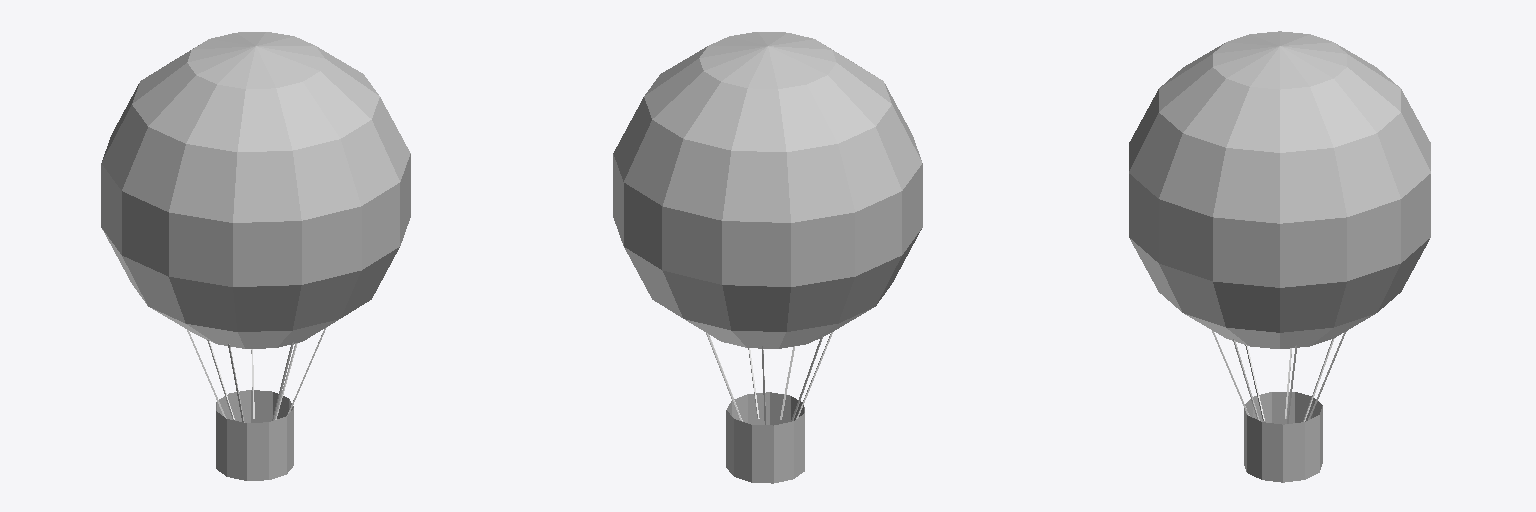
File: ballon.obj
3 renders of one model, left to right at view 1: azimuth 30°, elevation 25°; view 2: azimuth 150°, elevation 25°; view 3: azimuth 270°, elevation 25°, orthographic.
Visible parts, largest first — view 1: Sphere, Cylinder; view 2: Sphere, Cylinder; view 3: Sphere, Cylinder.
Boxes of the visible parts, x1=… form: Sphere: x1=101, y1=32, x2=410, y2=348; Cylinder: x1=216, y1=390, x2=293, y2=480; Sphere: x1=613, y1=32, x2=922, y2=348; Cylinder: x1=726, y1=392, x2=804, y2=483; Sphere: x1=1129, y1=31, x2=1430, y2=348; Cylinder: x1=1244, y1=392, x2=1322, y2=482.
Size of the model in its own units: 45.99 by 68.64 by 44.83.